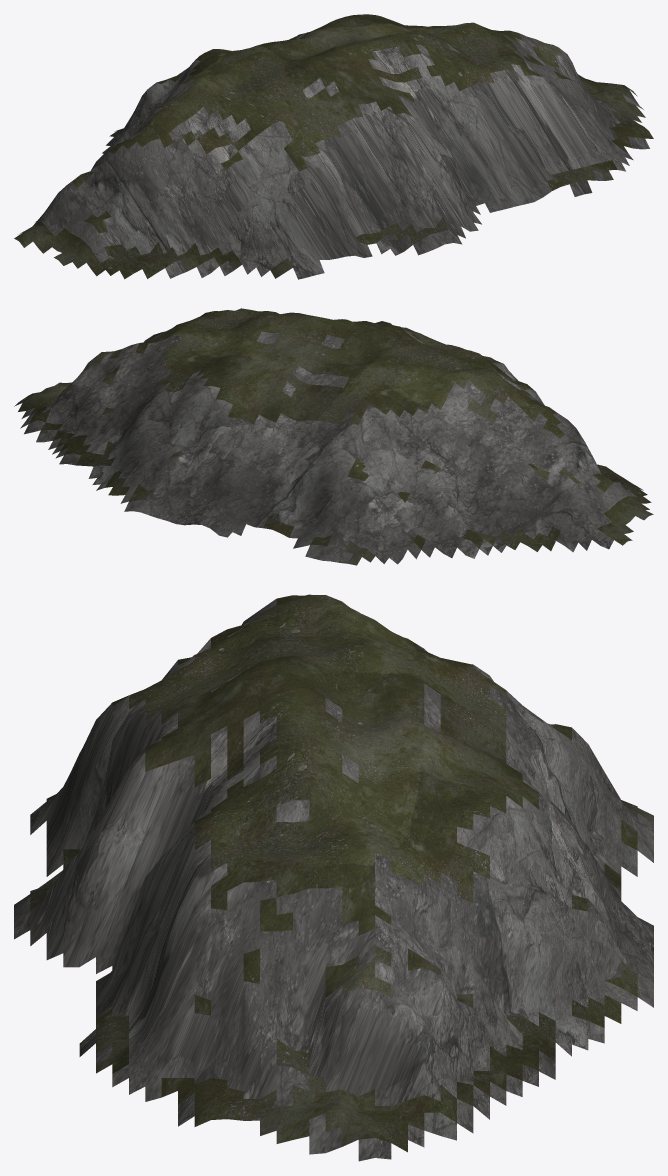
The model's file is border_shelf_c_v5_summer.glb.
The picture shows the model from 3 angles, top to bottom: view 1: azimuth 30°, elevation 25°; view 2: azimuth 150°, elevation 25°; view 3: azimuth 270°, elevation 25°; orthographic projection. The views are drawn at different scales.
Visible parts, largest first — view 1: border_shelf_c; view 2: border_shelf_c; view 3: border_shelf_c.
Part boxes in pixels (box(x1,y1,x2,y2)): border_shelf_c: box(14, 14, 653, 279); border_shelf_c: box(14, 308, 653, 565); border_shelf_c: box(14, 594, 653, 1161).
Bounding box in the file's own units: 1.06 × 0.2282 × 0.5909.
Materials: 2 (2 with a texture image).
